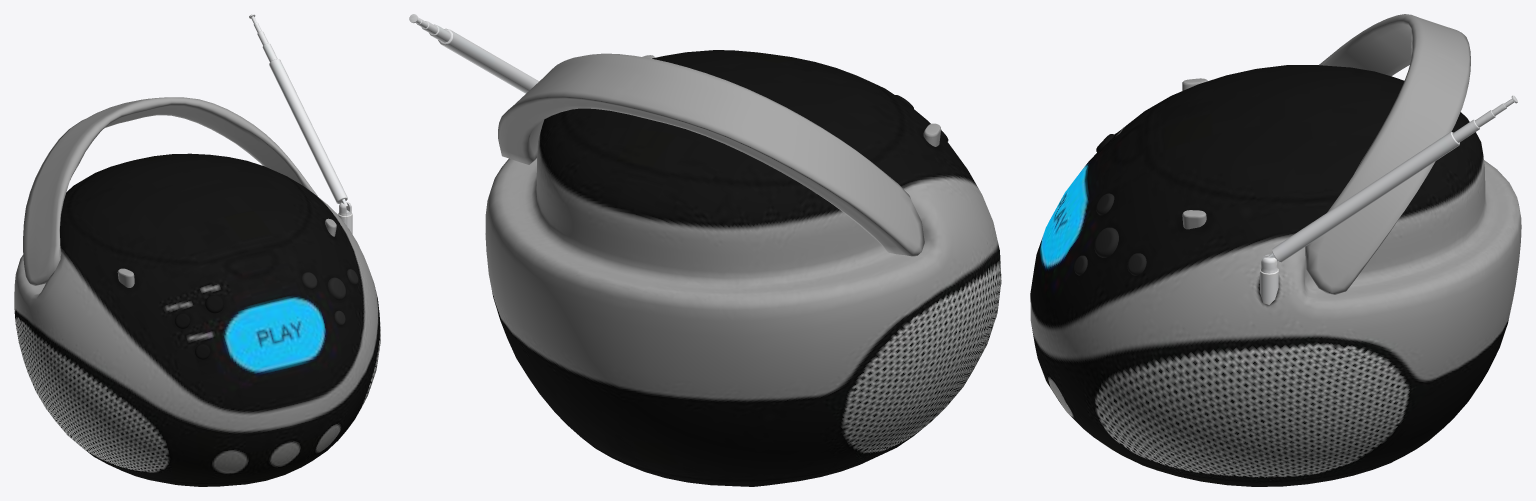
Rendered from BoomBox.glb.
3 views of the same model, side by side, from view 1: azimuth 30°, elevation 25°; view 2: azimuth 150°, elevation 25°; view 3: azimuth 270°, elevation 25° (orthographic). The views are drawn at different scales.
Parts seen in each view (by area): view 1: BoomBox; view 2: BoomBox; view 3: BoomBox.
Part boxes in pixels (x1,y1,x2,y2): BoomBox: [14, 14, 380, 486]; BoomBox: [409, 14, 1001, 486]; BoomBox: [1030, 14, 1521, 486].
Bounding box in the file's own units: 0.0198 × 0.0195 × 0.0202.
Materials: 1 (1 with a texture image).
